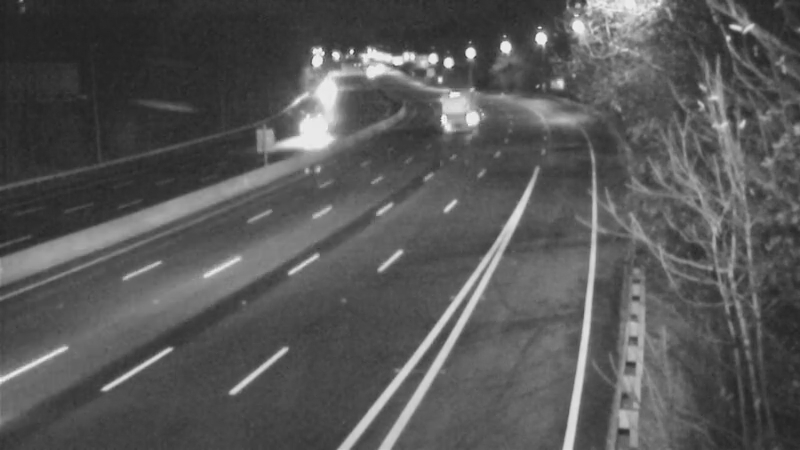vehicle: (433, 76, 483, 126), (299, 97, 349, 147), (305, 69, 355, 119)
